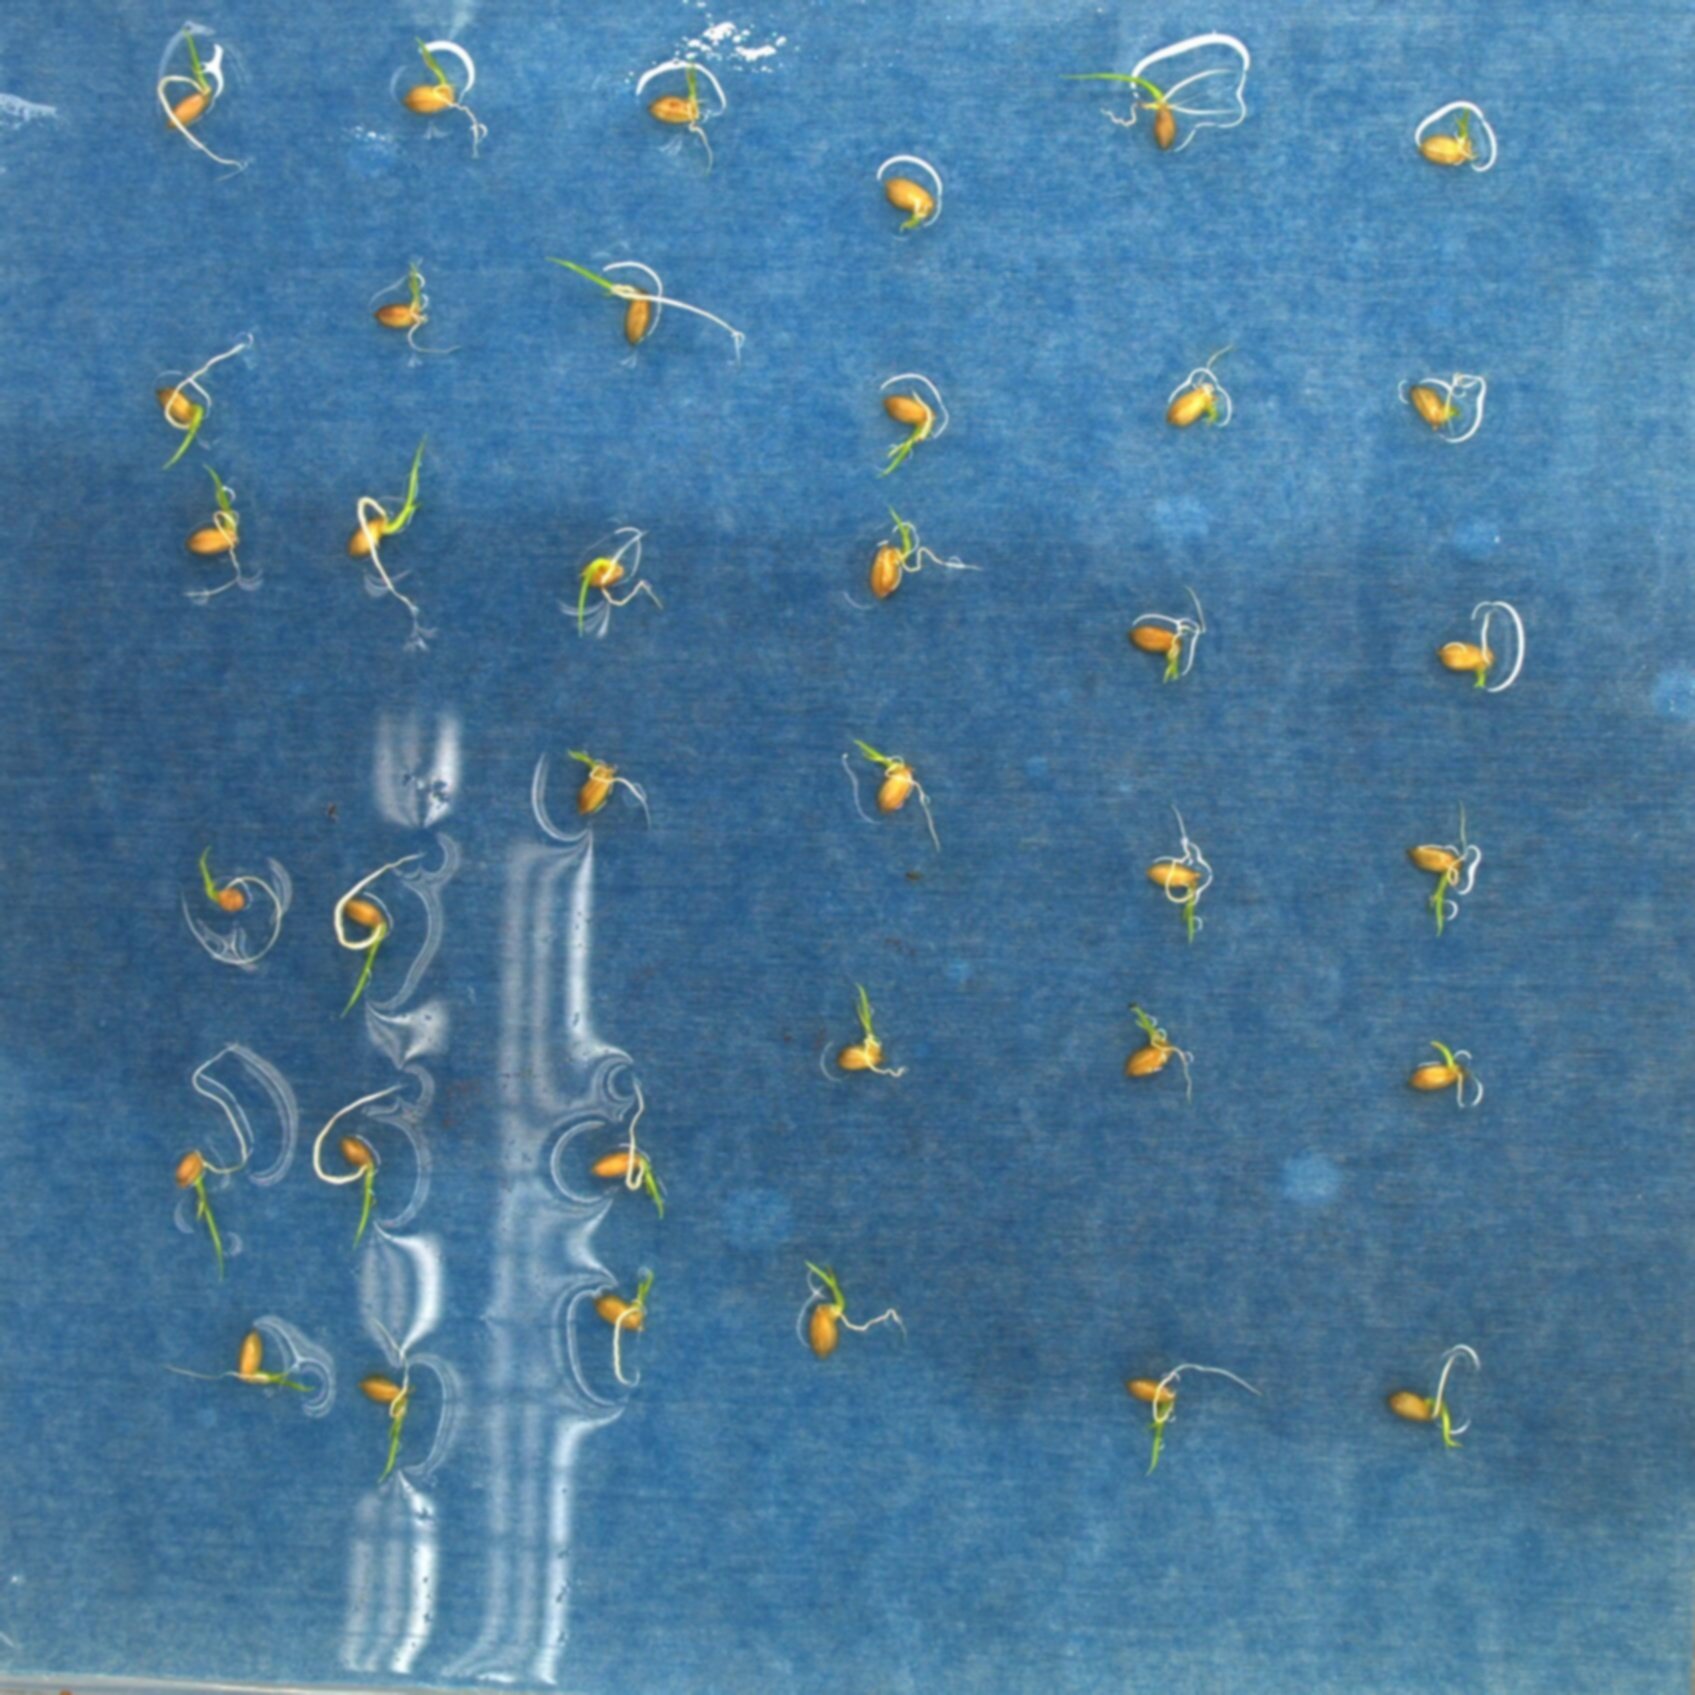not sprout: (1405, 1028, 1498, 1121), (1442, 602, 1523, 698), (871, 160, 944, 244), (1166, 362, 1243, 435), (1416, 116, 1489, 189), (1411, 376, 1462, 441)
sprout: (546, 245, 753, 369), (348, 421, 452, 630), (1052, 61, 1267, 157), (146, 19, 255, 175), (1111, 1361, 1256, 1475), (386, 29, 500, 172), (314, 1096, 408, 1265), (588, 1074, 686, 1226), (331, 849, 413, 1028), (169, 1321, 334, 1406), (146, 338, 253, 469), (171, 1141, 264, 1287), (636, 54, 740, 185), (844, 726, 953, 847), (855, 504, 993, 598), (787, 1260, 906, 1363), (567, 522, 661, 647), (1389, 1338, 1485, 1461), (1411, 801, 1495, 941), (366, 248, 456, 369), (1147, 807, 1225, 945), (182, 459, 261, 594), (587, 1265, 671, 1388), (827, 972, 911, 1085), (359, 1358, 424, 1499), (1125, 601, 1218, 689), (1124, 1009, 1208, 1101), (872, 379, 945, 473), (192, 844, 265, 931), (567, 745, 650, 812)
